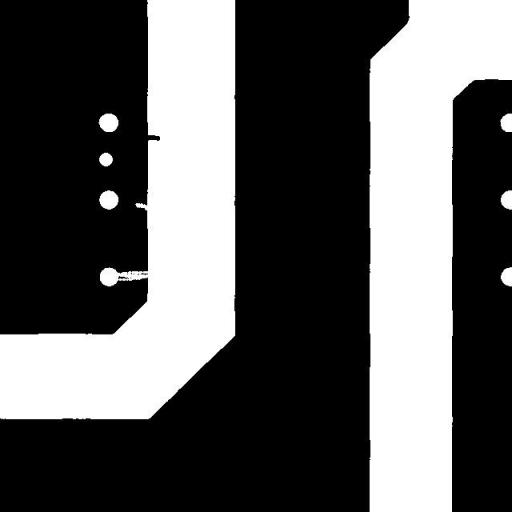mousebite: (127, 195, 158, 218)
open: (104, 263, 157, 288)
pin-hole: (91, 144, 120, 174)
spur: (136, 127, 167, 149)
